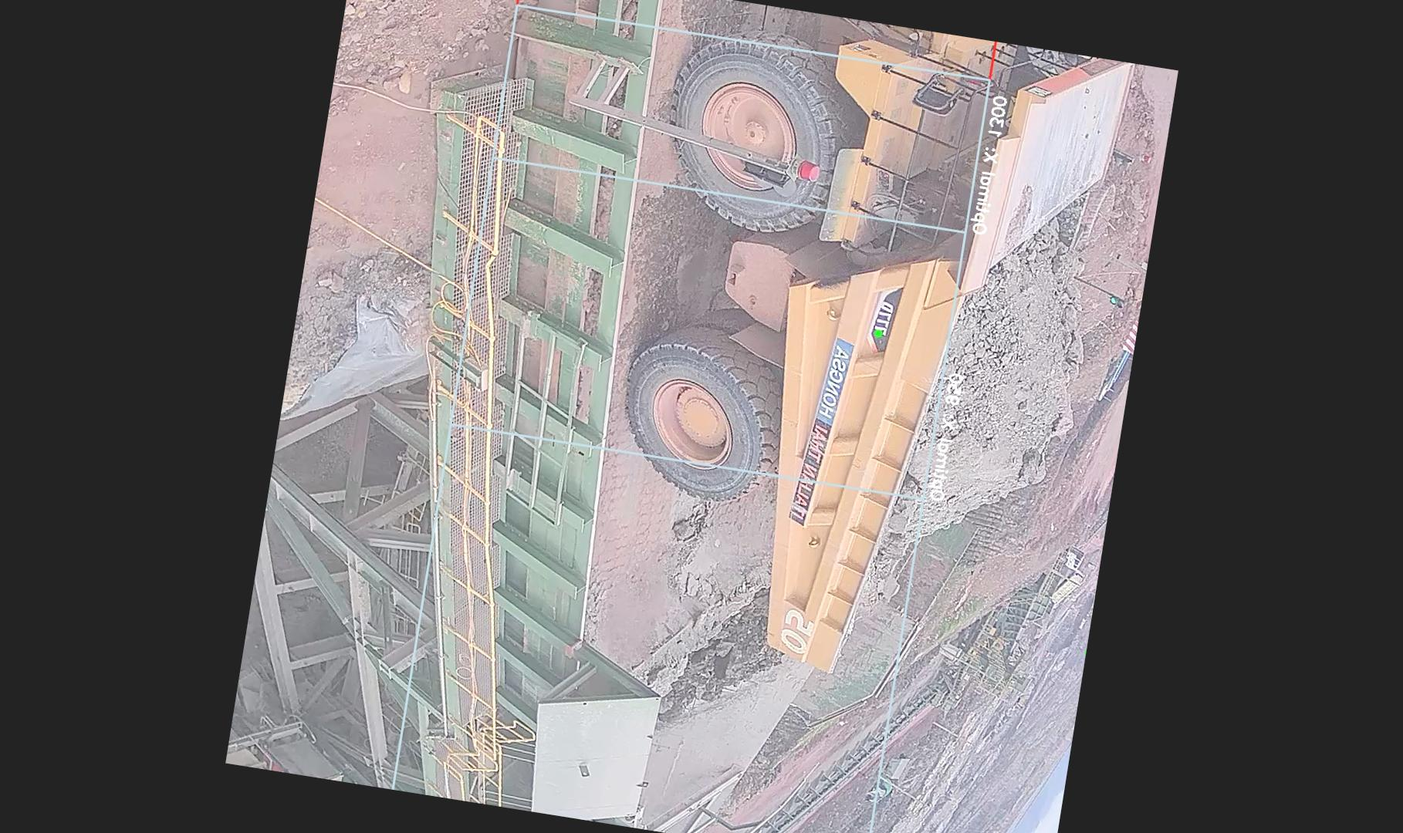company: (783, 324, 859, 540)
full_load: (901, 246, 1111, 520)
mining_truck: (588, 0, 1162, 713)
tail_number: (769, 599, 827, 662)
truck_size: (862, 278, 905, 362)
